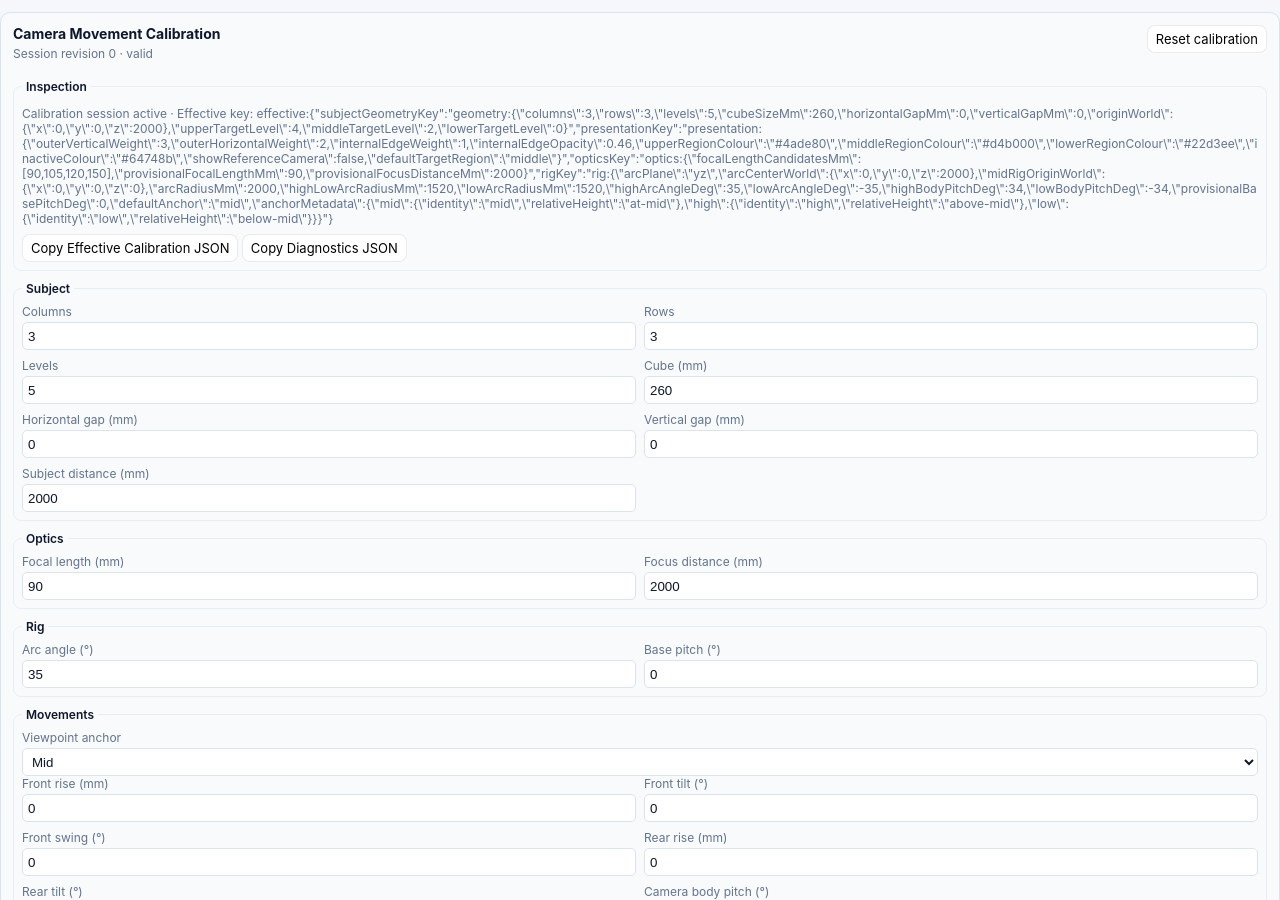
Test: camera calibration workbench › reports clipboard success and failure
Click the button "Copy Effective Calibration JSON" at (130, 248), box [22,234,238,262]
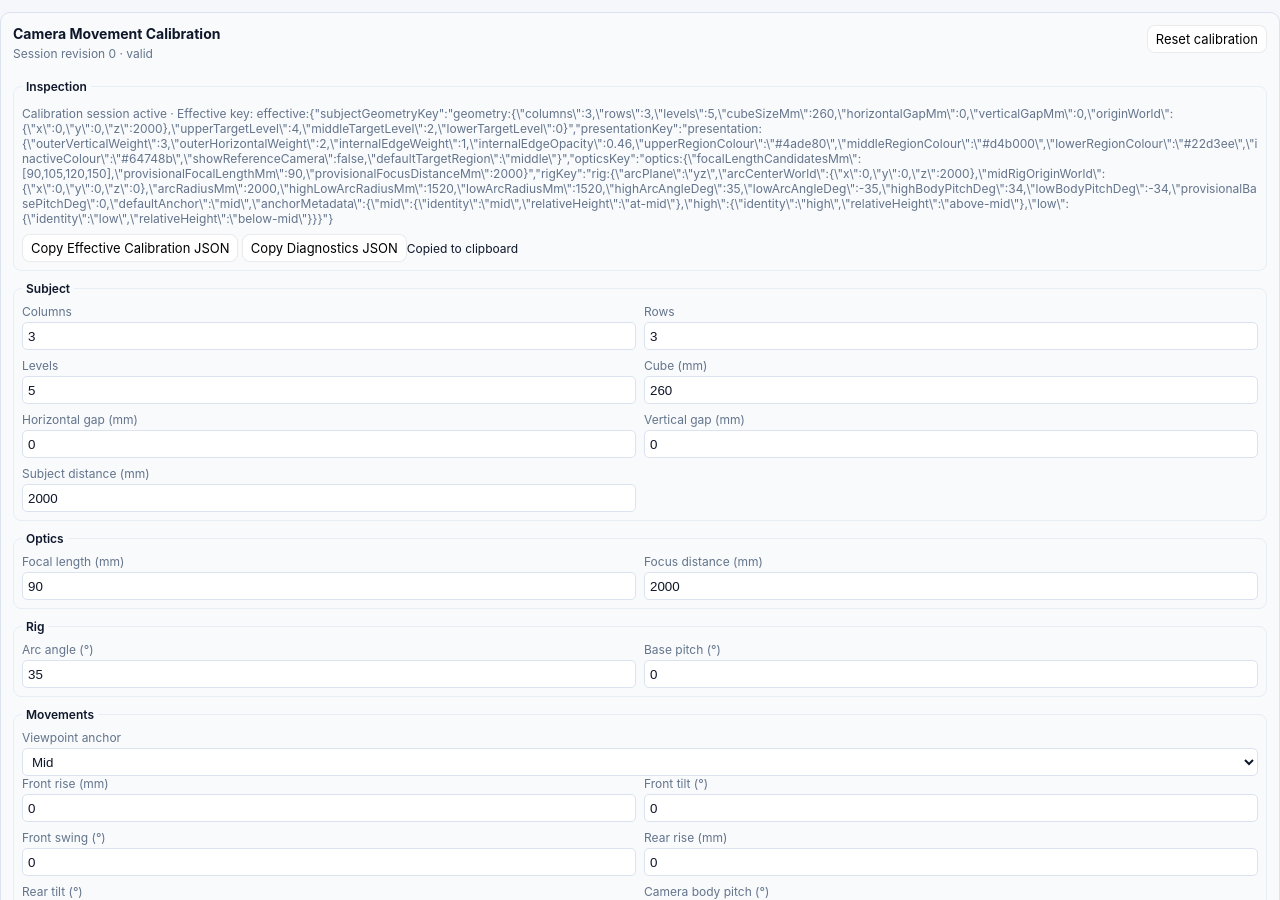
Check: the text "Copied to clipboard" is shown, box [407,241,518,256]
Click the button "Copy Diagnostics JSON" at (324, 248), box [242,234,407,262]
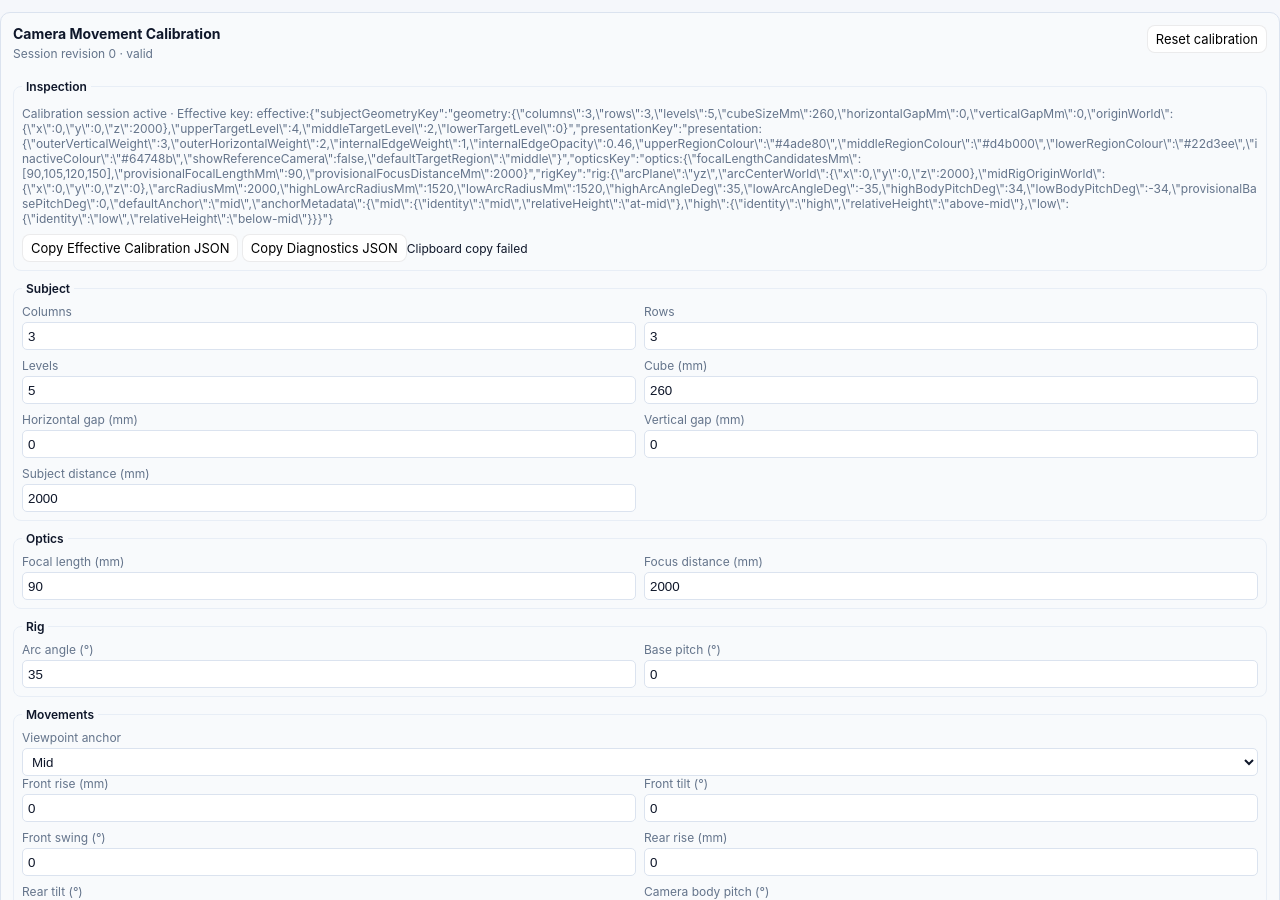
Check: the text "Clipboard copy failed" is shown, box [407,241,528,256]
